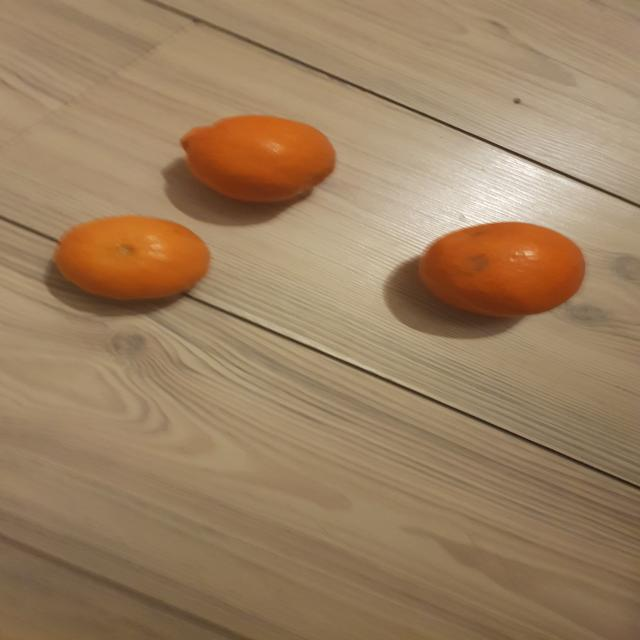Orange: (417, 222, 586, 320), (52, 216, 211, 305), (180, 116, 337, 206)
